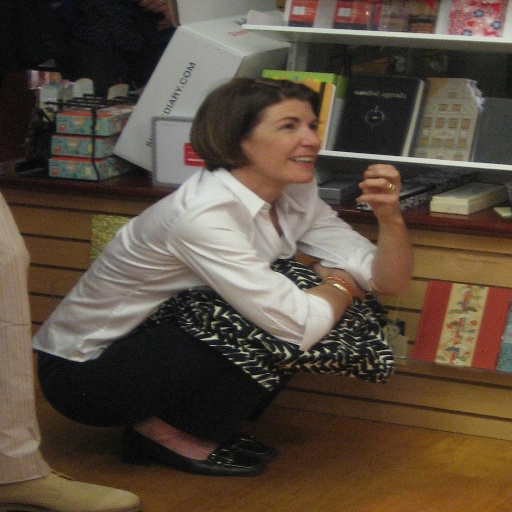hand: (352, 159, 403, 217), (307, 260, 366, 303)
